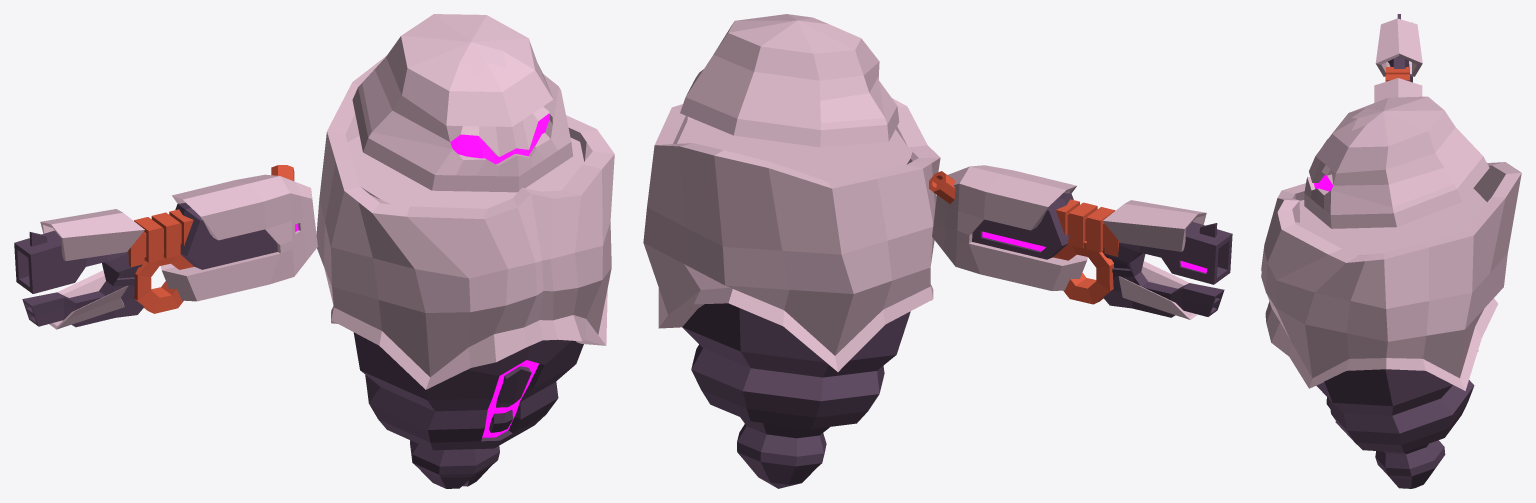
The model's file is Player 4 model.fbx.
3 views of the same model, side by side, from view 1: azimuth 30°, elevation 25°; view 2: azimuth 150°, elevation 25°; view 3: azimuth 270°, elevation 25° (orthographic). The views are drawn at different scales.
Visible parts, largest first — view 1: body top; view 2: body top; view 3: body top.
Part boxes in pixels (x1=…): body top: x1=14, y1=14, x2=614, y2=488; body top: x1=643, y1=14, x2=1232, y2=488; body top: x1=1261, y1=14, x2=1521, y2=488.
Size of the model in its own units: 276 by 209 by 131.
